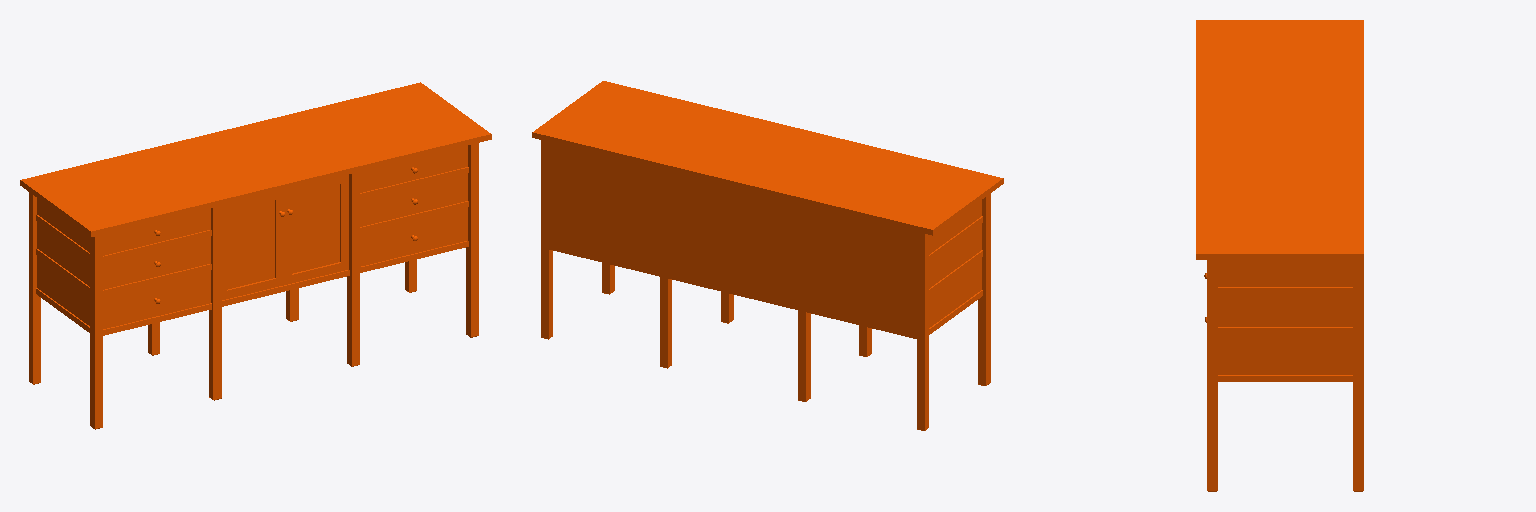
robot.urdf — Sideboard_73268062bff1f554f1783a44a88d6274:
<?xml version="1.0" ?>
<robot name="Sideboard_73268062bff1f554f1783a44a88d6274">
   <material name="obj_color">
      <color rgba="1.0 0.423529411765 0.0392156862745 1.0"/>
   </material>
   <link name="top">
      <inertial>
         <origin rpy="0.001012008338314497 0.0032754328248197 0.003740488234082449" xyz="2.499999999999843e-05 0.002242103403261853 -0.02065154263726364"/>
         <mass value="1.000998633909563"/>
         <inertia ixx="0.001012008338314497" ixy="2.489542225146119e-20" ixz="3.199989558692015e-19" iyy="0.003739948316356965" iyz="1.583667097728693e-05" izz="0.003275972742545184"/>
      </inertial>
      <visual>
         <origin rpy="0 0 0" xyz="0 0 0"/>
         <geometry>
            <mesh filename="top_watertight_tiny.stl" scale="1 1 1"/>
         </geometry>
         <material name="obj_color"/>
      </visual>
      <collision>
         <origin rpy="0 0 0" xyz="0 0 0"/>
         <geometry>
            <mesh filename="top_watertight_tiny.obj" scale="1 1 1"/>
         </geometry>
      </collision>
   </link>
   <link name="bottom">
      <inertial>
         <origin rpy="1.633333333199431e-08 1.633333333199431e-08 1.633333333362855e-08" xyz="0.3464080000000008 0.3464080000000008 0.3464080000000008"/>
         <mass value="0.0009800000000000017"/>
         <inertia ixx="1.633333333253906e-08" ixy="5.447480642029219e-19" ixz="5.447480642029219e-19" iyy="1.633333333253906e-08" iyz="5.447480642029219e-19" izz="1.633333333253906e-08"/>
      </inertial>
      <visual>
         <origin rpy="0 0 0" xyz="0 0 0"/>
         <geometry>
            <mesh filename="bottom_watertight_tiny.stl" scale="1 1 1"/>
         </geometry>
         <material name="obj_color"/>
      </visual>
   </link>
   <link name="world"/>
   <joint name="world_to_base" type="fixed">
      <origin xyz="0 0 0"/>
      <axis xyz="0 0 0"/>
      <parent link="world"/>
      <child link="bottom"/>
   </joint>
   <joint name="rotation" type="revolute">
      <origin xyz="0 0 0"/>
      <axis xyz="0 0 -1"/>
      <parent link="bottom"/>
      <child link="top"/>
      <dynamics damping="1.0" friction="1.0"/>
      <limit effort="0.1" velocity="0.1" lower="0" upper="0.001"/>
   </joint>
</robot>

--- Facts derived from the render (not from the file) ---
The picture shows the robot from 3 angles, left to right: view 1: azimuth 30°, elevation 25°; view 2: azimuth 150°, elevation 25°; view 3: azimuth 270°, elevation 25°; orthographic projection.
Model Sideboard_73268062bff1f554f1783a44a88d6274 with 3 links and 2 joints (1 revolute, 1 fixed), rooted at world, posed all joints at 0.
Visible links, largest first — view 1: top; view 2: top; view 3: top.
Link boxes in pixels (x1,y1,x2,y2): top: [20, 82, 491, 429]; top: [532, 81, 1003, 430]; top: [1196, 20, 1363, 491].
Size in the robot's own frame: 0.1934 by 0.0591 by 0.0941 metres.
Meshes: 2 distinct files referenced, 1 mesh visuals loaded (1 binary STL); not drawn: 1 (reference not matched to a file when rendering).
